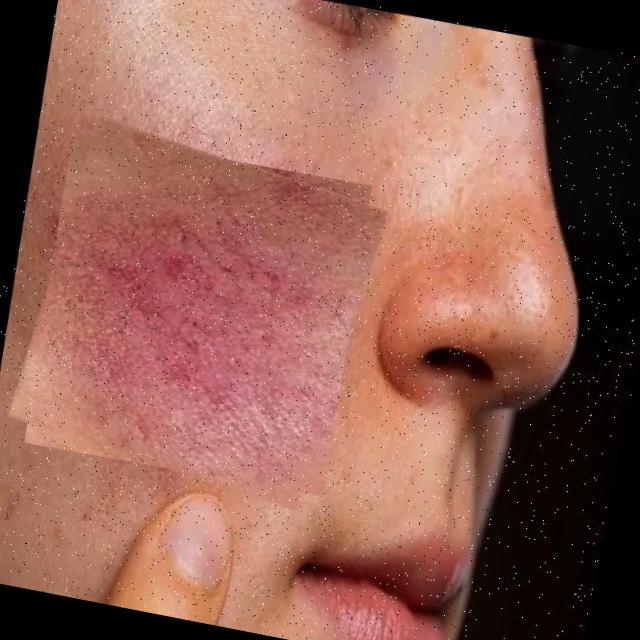redness: (50, 175, 340, 486)
